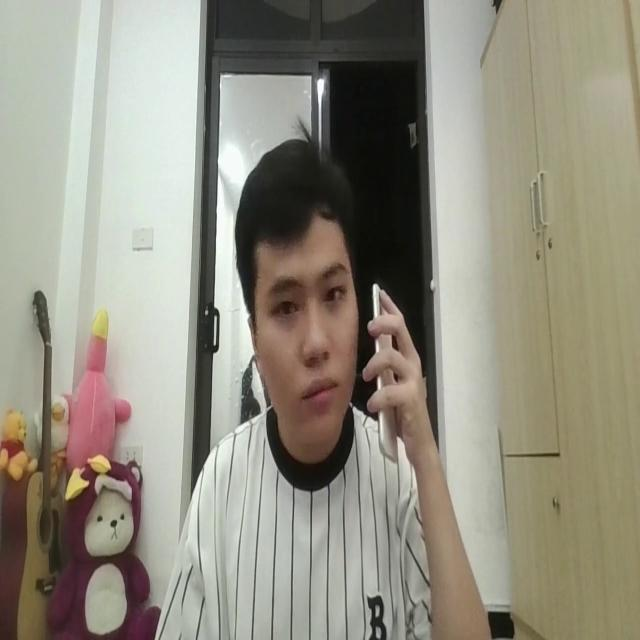phone: (370, 269, 403, 472)
student: (150, 130, 491, 640)
